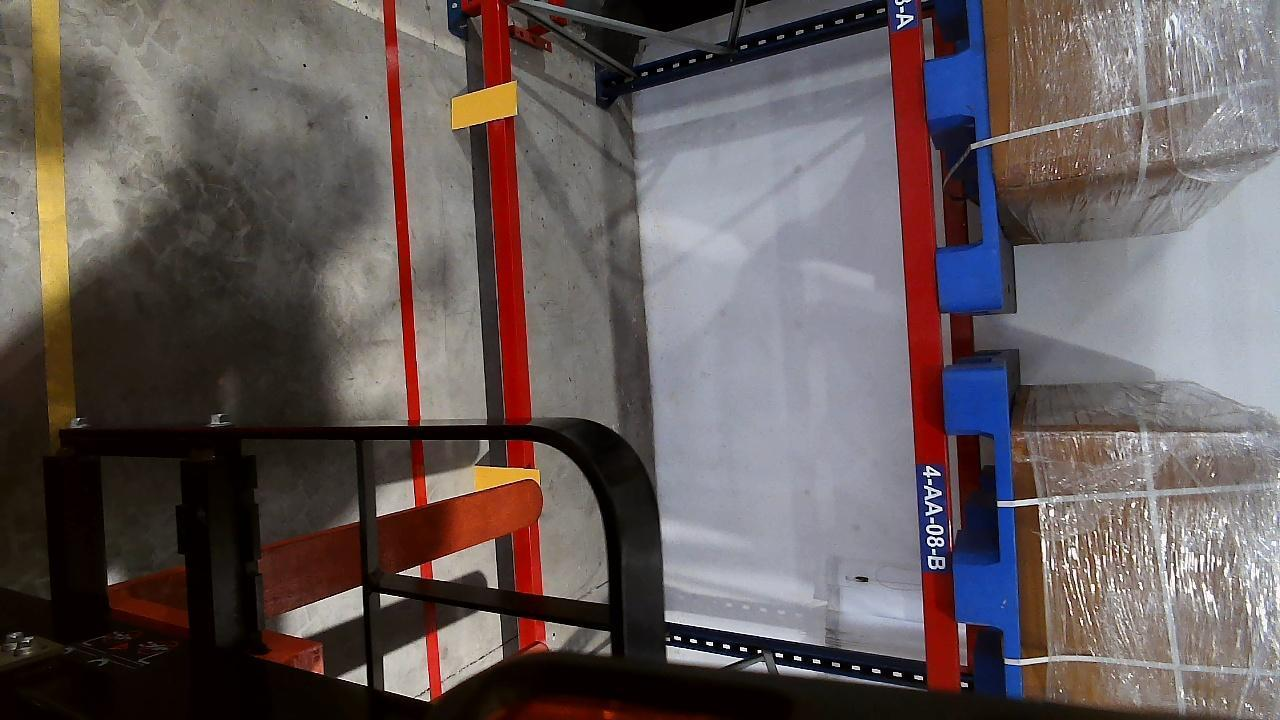red_line: (381, 0, 446, 700)
yellow_line: (31, 0, 74, 429)
